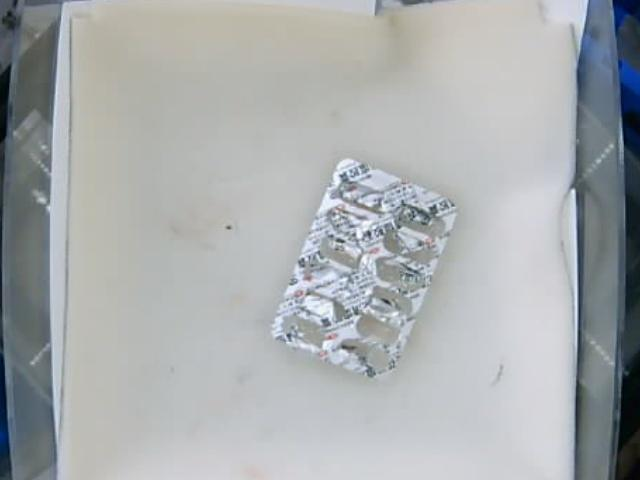Medicine: (270, 157, 456, 380)
